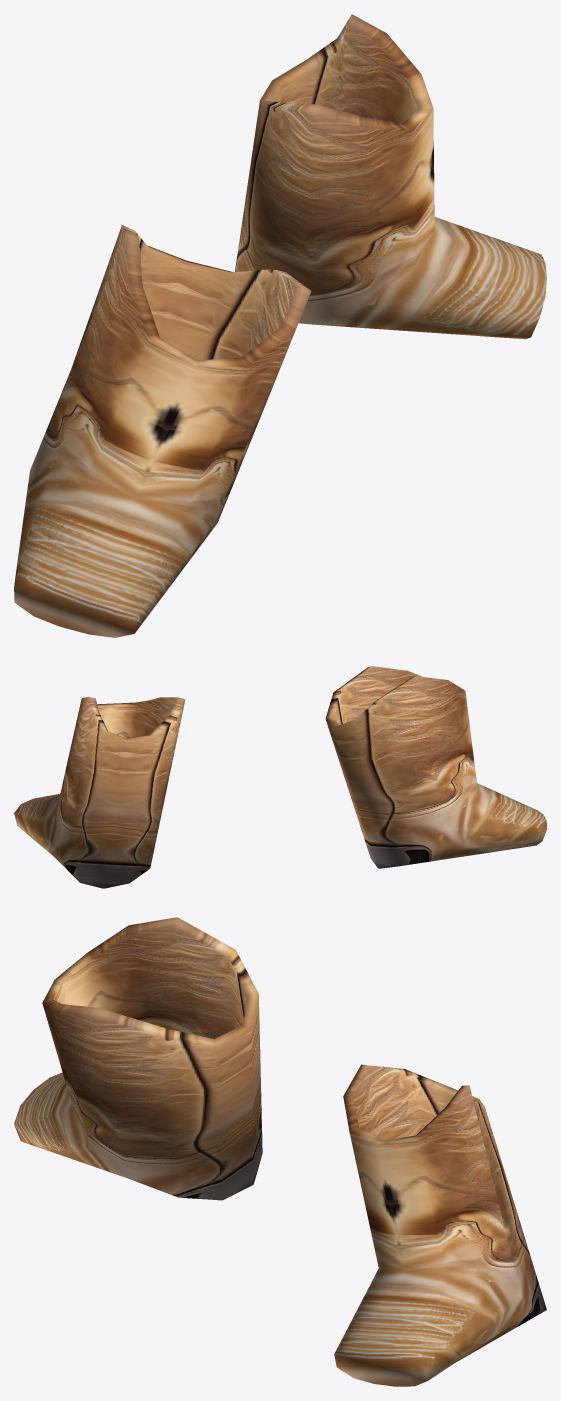
File: Shoes5.fbx
3 views of the same model, one above another, from view 1: azimuth 30°, elevation 25°; view 2: azimuth 150°, elevation 25°; view 3: azimuth 270°, elevation 25° (orthographic). The views are drawn at different scales.
Parts seen in each view (by area): view 1: F.Shoes.005; view 2: F.Shoes.005; view 3: F.Shoes.005.
Part boxes in pixels (left/top/right/bottom): F.Shoes.005: left=14, top=14, right=546, bottom=637; F.Shoes.005: left=14, top=666, right=546, bottom=888; F.Shoes.005: left=14, top=917, right=546, bottom=1386.
Size of the model in its own units: 669 by 279 by 509.
